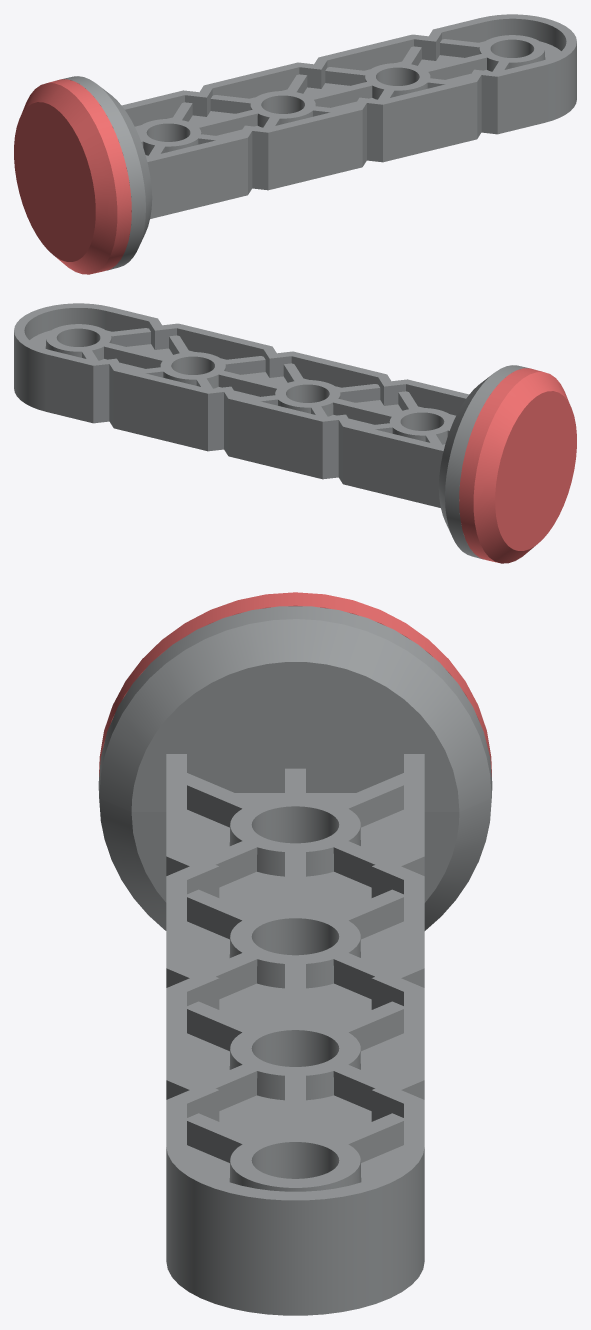
3 renders of one model, top to bottom at view 1: azimuth 30°, elevation 25°; view 2: azimuth 150°, elevation 25°; view 3: azimuth 270°, elevation 25°, orthographic. The views are drawn at different scales.
Visible parts, largest first — view 1: main_54585a, cad_d62828; view 2: main_54585a, cad_d62828; view 3: main_54585a, cad_d62828.
Part boxes in pixels (x1,y1,x2,y2): main_54585a: (62,14,576,270); cad_d62828: (14,79,131,274); main_54585a: (14,303,528,559); cad_d62828: (459,368,576,563); main_54585a: (98,606,492,1315); cad_d62828: (99,592,491,776).
Size of the model in its own units: 56.88 by 18.9 by 18.9.
